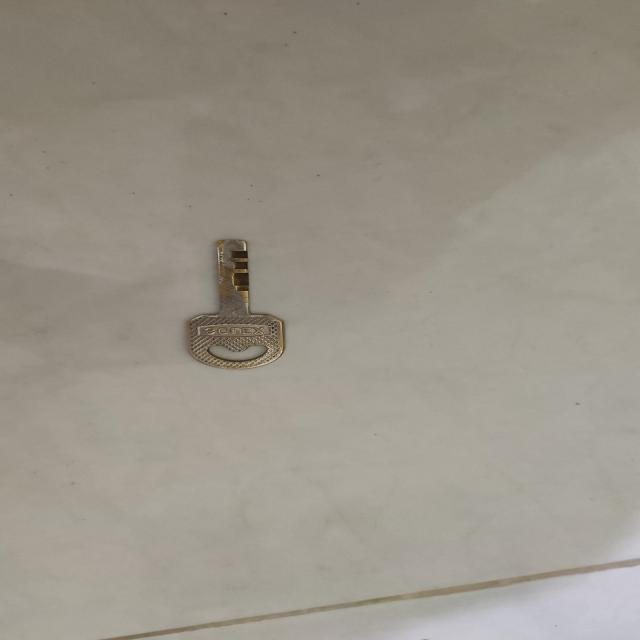kunci_pagar: (165, 227, 321, 385)
